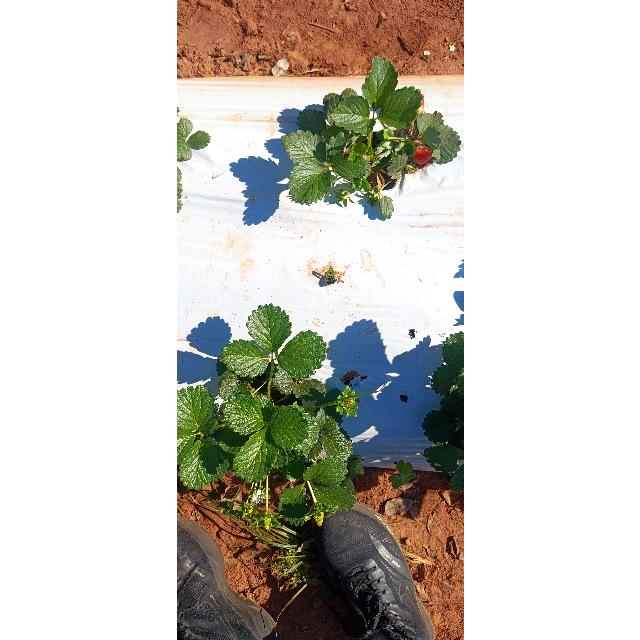maduro: (412, 146, 434, 166)
